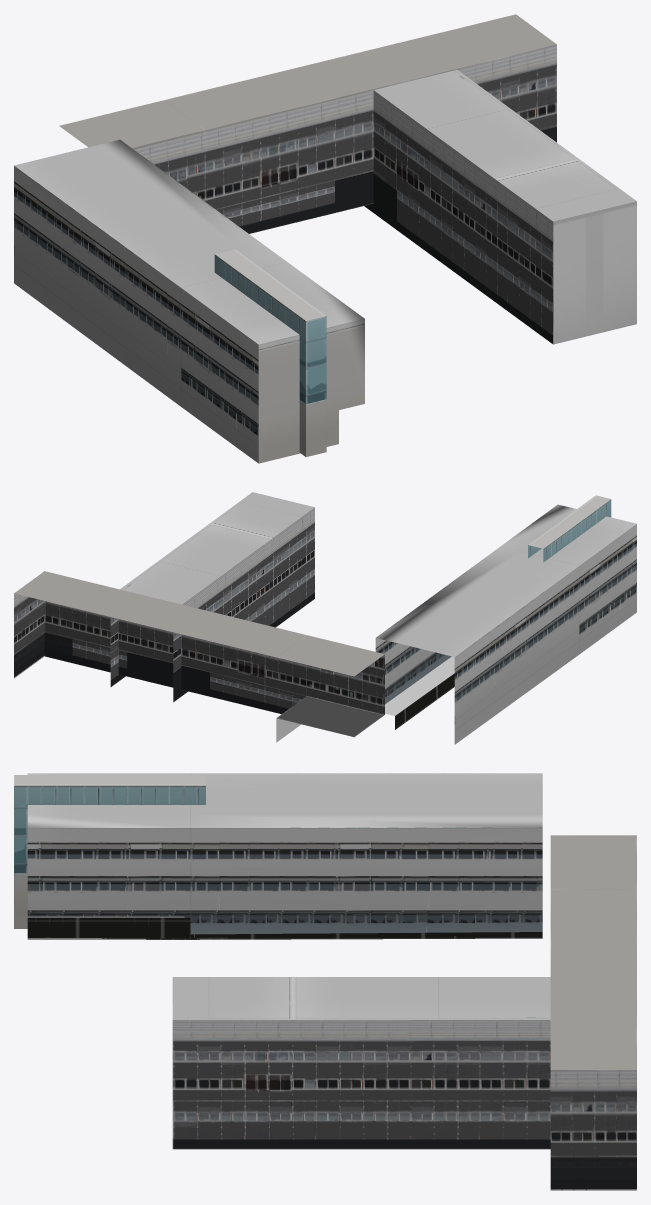
File: AERL.obj
3 renders of one model, top to bottom at view 1: azimuth 30°, elevation 25°; view 2: azimuth 150°, elevation 25°; view 3: azimuth 270°, elevation 25°, orthographic. The views are drawn at different scales.
Parts seen in each view (by area): view 1: AERL_1_Mesh.002, AERL_3_Mesh.002, AERL_4_Mesh.002, AERL_2_Mesh.002; view 2: AERL_1_Mesh.002, AERL_4_Mesh.002, AERL_3_Mesh.002, AERL_2_Mesh.002; view 3: AERL_1_Mesh.002, AERL_3_Mesh.002, AERL_4_Mesh.002, AERL_2_Mesh.002.
Part boxes in pixels (x1=…): AERL_1_Mesh.002: x1=14, y1=139, x2=364, y2=463; AERL_3_Mesh.002: x1=364, y1=70, x2=636, y2=344; AERL_4_Mesh.002: x1=59, y1=14, x2=556, y2=233; AERL_2_Mesh.002: x1=214, y1=249, x2=326, y2=456; AERL_1_Mesh.002: x1=375, y1=504, x2=636, y2=744; AERL_4_Mesh.002: x1=14, y1=571, x2=384, y2=742; AERL_3_Mesh.002: x1=110, y1=492, x2=314, y2=702; AERL_2_Mesh.002: x1=528, y1=495, x2=611, y2=562; AERL_1_Mesh.002: x1=27, y1=773, x2=542, y2=939; AERL_3_Mesh.002: x1=172, y1=977, x2=550, y2=1149; AERL_4_Mesh.002: x1=550, y1=835, x2=636, y2=1190; AERL_2_Mesh.002: x1=14, y1=775, x2=205, y2=928.
Size of the model in its own units: 0.0811 by 0.0223 by 0.0761.
